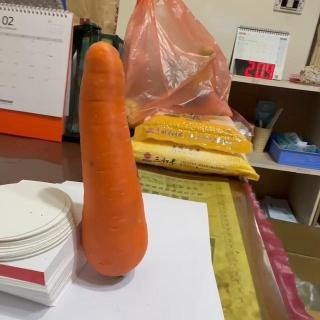carrot: (78, 40, 150, 278)
